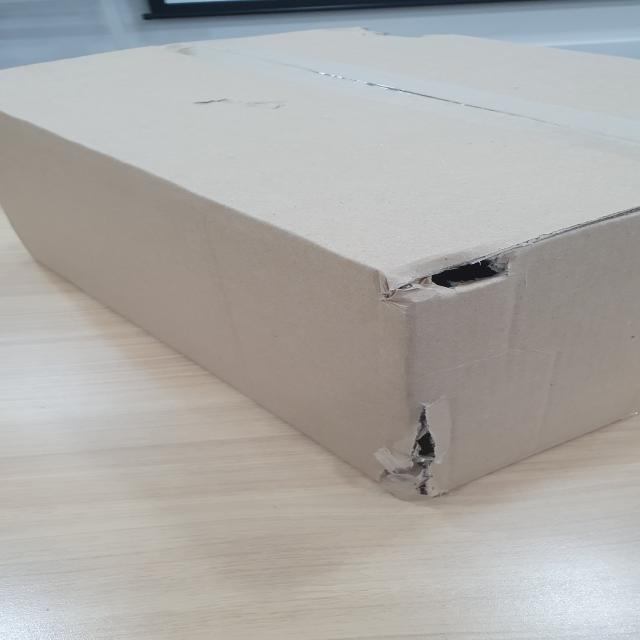hole: (389, 242, 521, 308), (396, 405, 446, 508)
